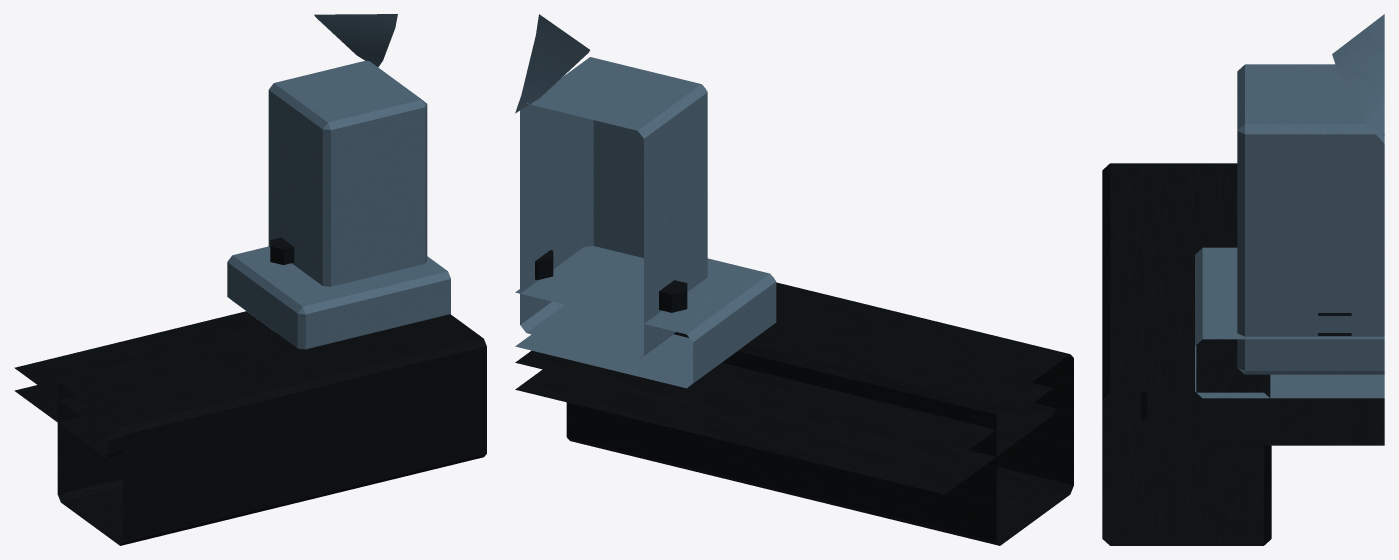
File: cell_18.obj
3 views of the same model, side by side, from view 1: azimuth 30°, elevation 25°; view 2: azimuth 150°, elevation 25°; view 3: azimuth 270°, elevation 25° (orthographic). The views are drawn at different scales.
Visible parts, largest first — view 1: cell_18; view 2: cell_18; view 3: cell_18.
Boxes of the visible parts, x1,y1,x2,y2 form: cell_18: (14,14,486,545); cell_18: (515,14,1073,545); cell_18: (1102,14,1384,545).
Size of the model in its own units: 1 by 1 by 0.52.
